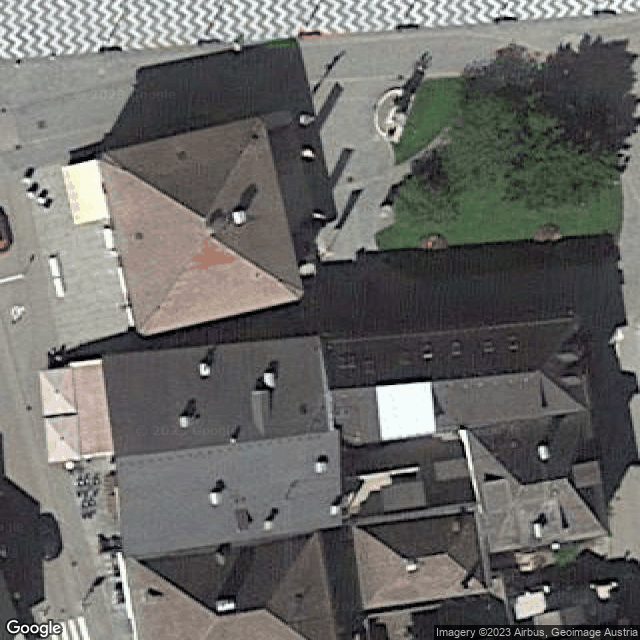ridge: (118, 432, 337, 460), (331, 372, 540, 393), (218, 611, 266, 619), (522, 479, 568, 486), (404, 554, 447, 560), (204, 218, 207, 235)
roof: (102, 337, 343, 556), (98, 118, 304, 333), (320, 317, 592, 444), (125, 530, 339, 640), (466, 411, 610, 551), (353, 511, 489, 610)
valley: (128, 560, 217, 616), (266, 532, 318, 609), (469, 432, 521, 485), (568, 480, 608, 533), (540, 319, 577, 371), (367, 559, 404, 608), (493, 486, 522, 548), (540, 371, 589, 407), (354, 527, 404, 559), (567, 413, 589, 479), (449, 552, 487, 589), (266, 609, 306, 640), (448, 512, 473, 553), (201, 615, 218, 638)
